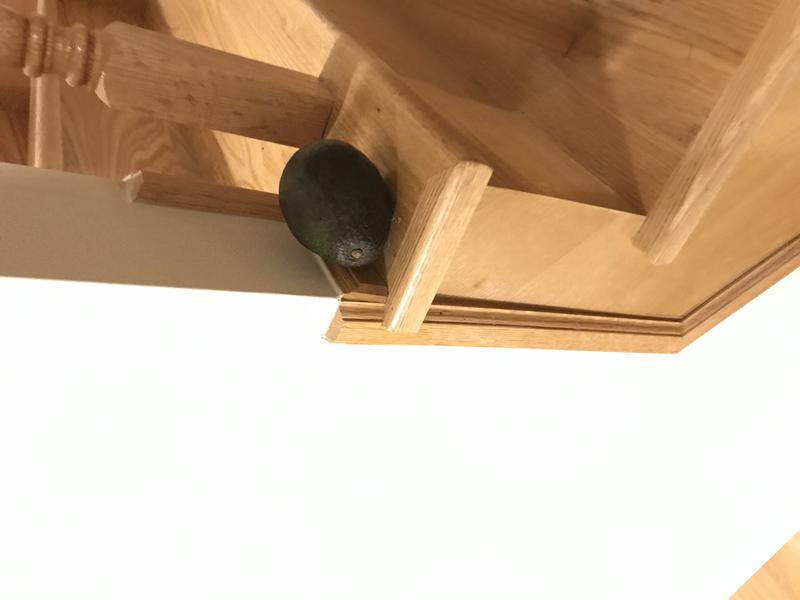avacado: (269, 134, 398, 279)
